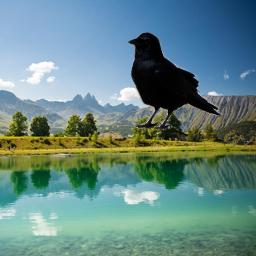Crow: (125, 31, 224, 130)
